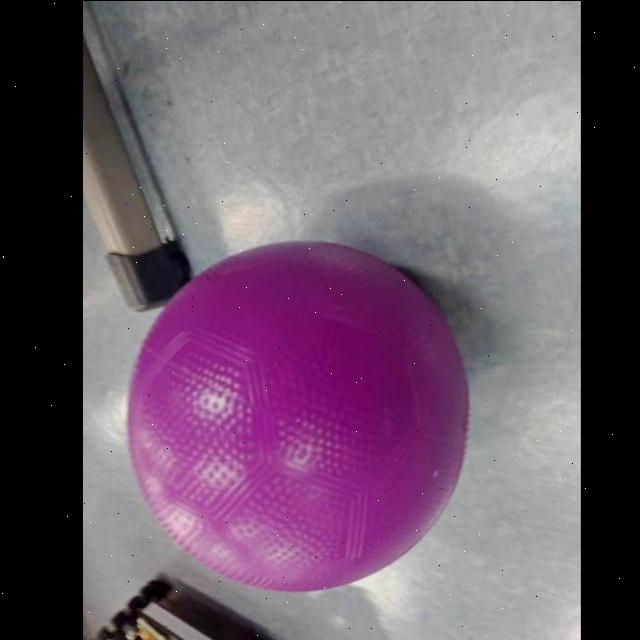P: (121, 234, 476, 600)
